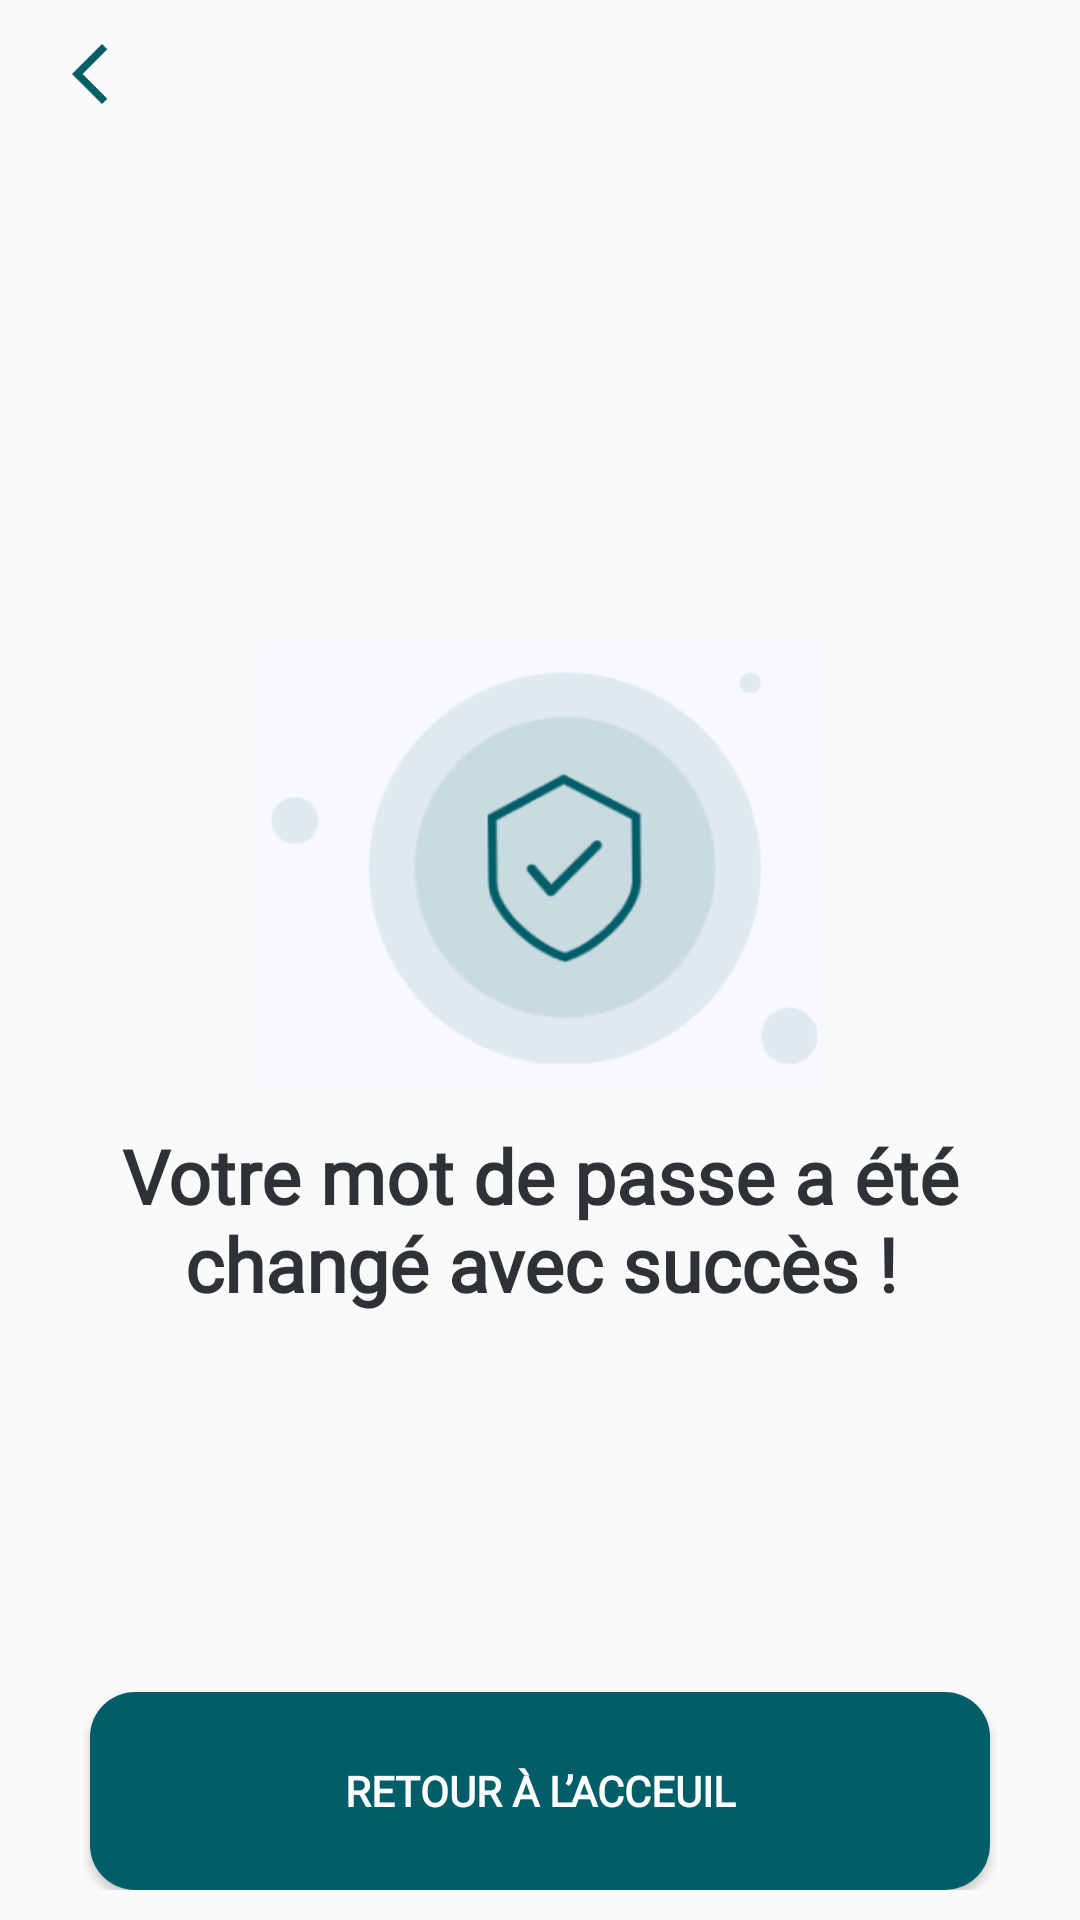

Where to tap for icons on this 1080 × 1920 app screen, as (x,y):
arrow back: (89,74)
